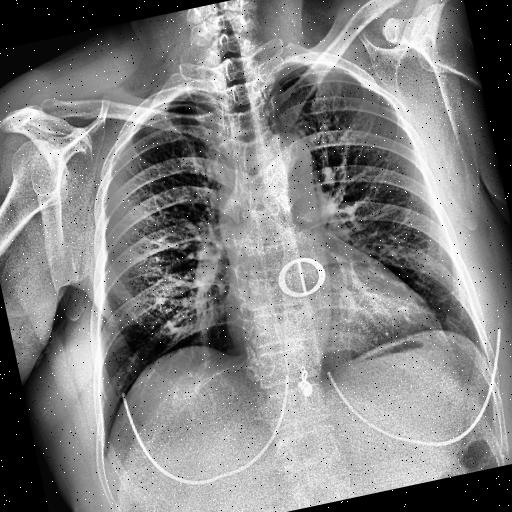0- Aortic enlargement: (253, 127, 321, 218), (254, 130, 318, 202)
3- Cardiomegaly: (224, 256, 442, 382), (224, 261, 444, 385), (222, 256, 442, 372)
